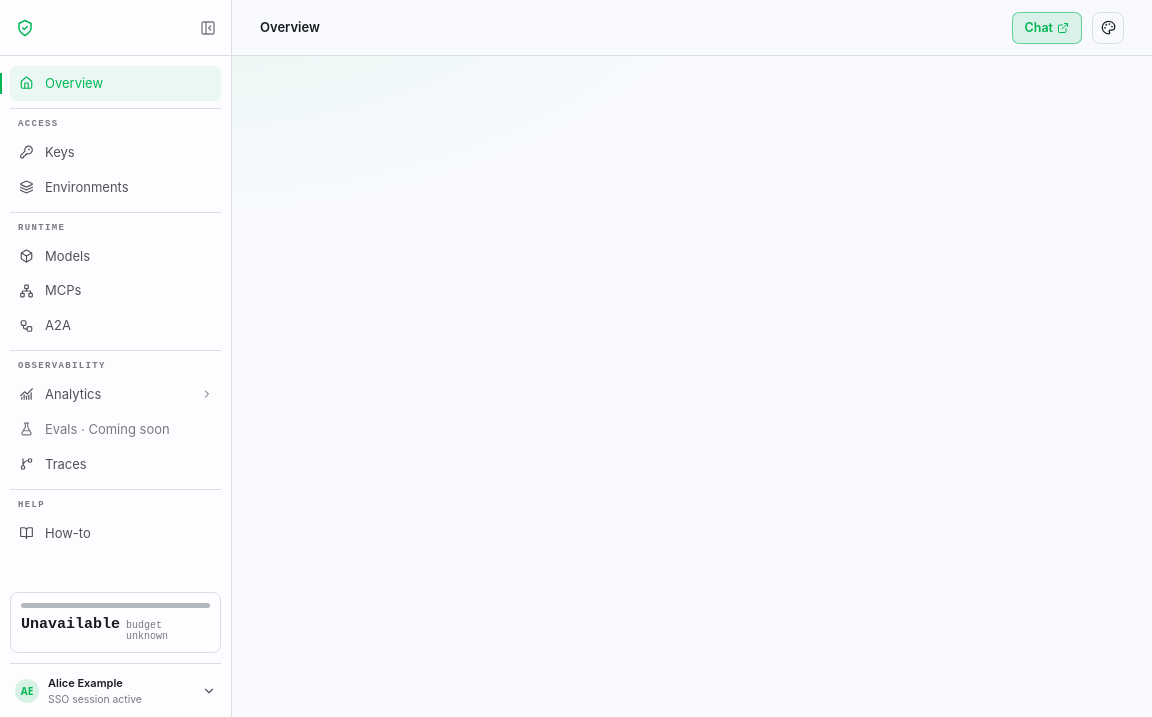
Test case: AppShell — sidebar nav › Analytics is collapsed by default; Evals is listed disabled
Check: the icon with class "chevron" is shown, box [200, 388, 214, 400]
Check: the link "Cost" is not shown
What coordinates should you click on to do the following:
click the button "Analytics"
I would click on:
 (116, 394)
Its box is [10, 377, 221, 412].
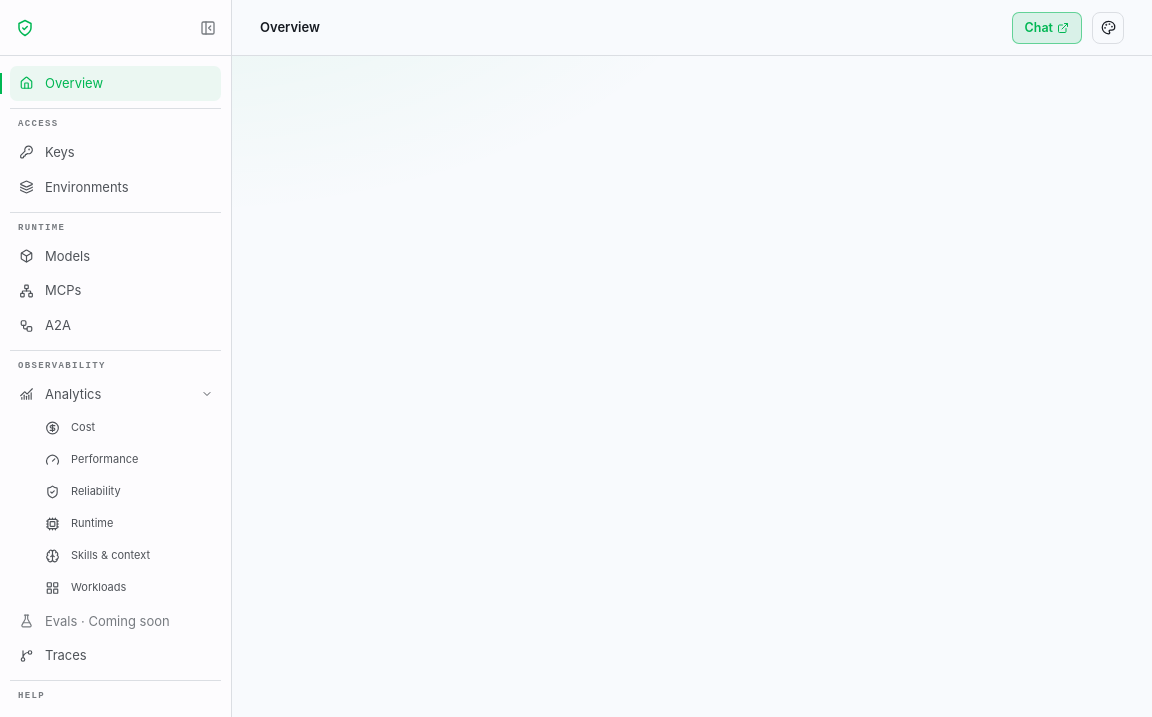
What coordinates should you click on to do the following:
click the button "Analytics"
I would click on:
 (116, 394)
Its box is [10, 377, 221, 412].
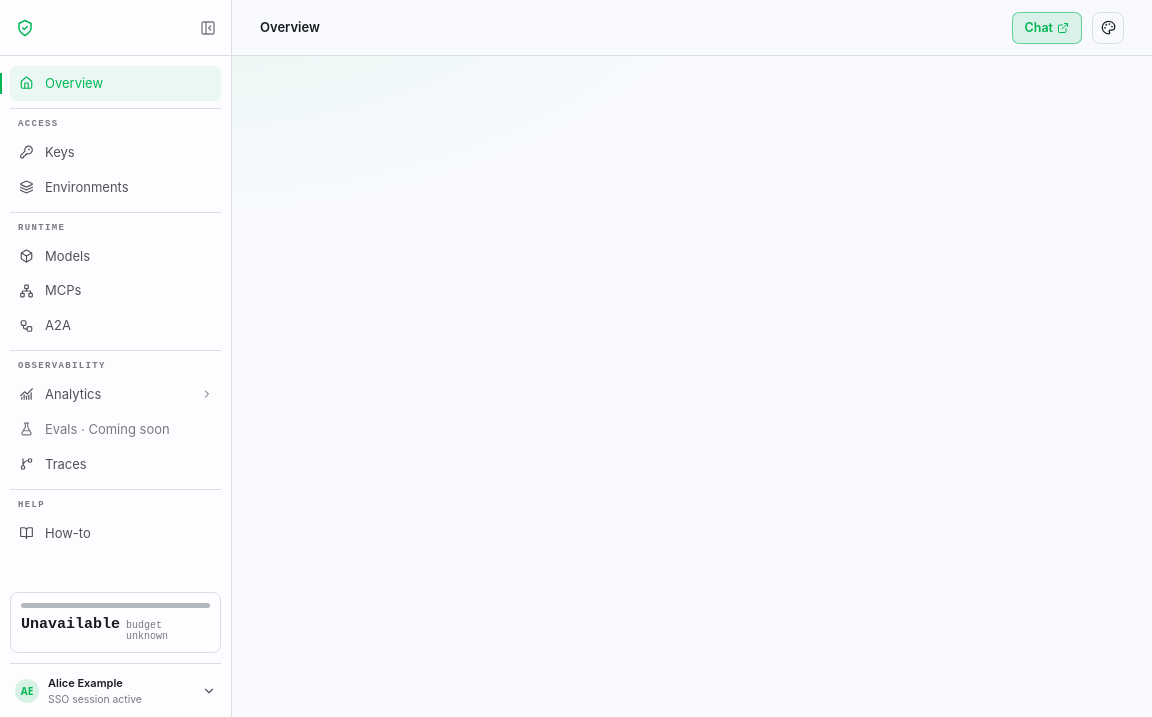
Check: the link "Cost" is gone
